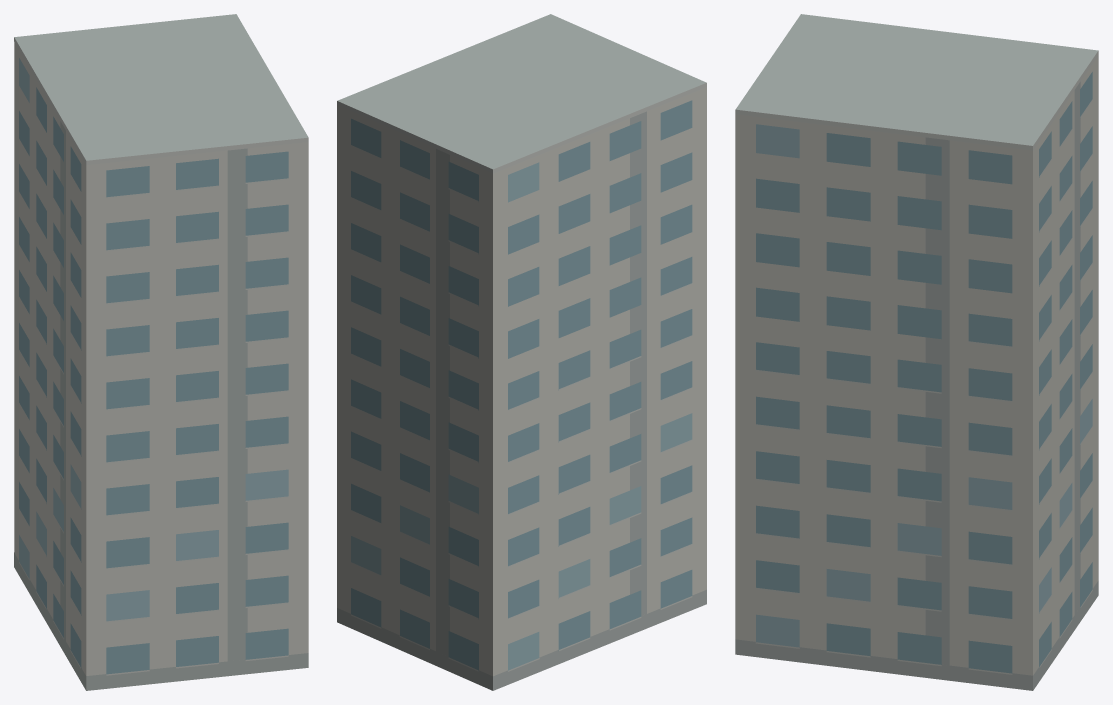
File: residential-cf3a0d72-09e6-4ad0-91a7-90fc5c0638ae.glb
3 views of the same model, side by side, from view 1: azimuth 30°, elevation 25°; view 2: azimuth 150°, elevation 25°; view 3: azimuth 270°, elevation 25° (orthographic). The views are drawn at different scales.
Parts seen in each view (by area): view 1: residential-cf3a0d72-09e6-4ad0-91a7-90fc5c0638ae.tmp; view 2: residential-cf3a0d72-09e6-4ad0-91a7-90fc5c0638ae.tmp; view 3: residential-cf3a0d72-09e6-4ad0-91a7-90fc5c0638ae.tmp.
Part boxes in pixels (x1=…): residential-cf3a0d72-09e6-4ad0-91a7-90fc5c0638ae.tmp: x1=14, y1=14, x2=308, y2=690; residential-cf3a0d72-09e6-4ad0-91a7-90fc5c0638ae.tmp: x1=337, y1=14, x2=706, y2=690; residential-cf3a0d72-09e6-4ad0-91a7-90fc5c0638ae.tmp: x1=735, y1=14, x2=1098, y2=690.
Size of the model in its own units: 15.07 by 29 by 17.52.
